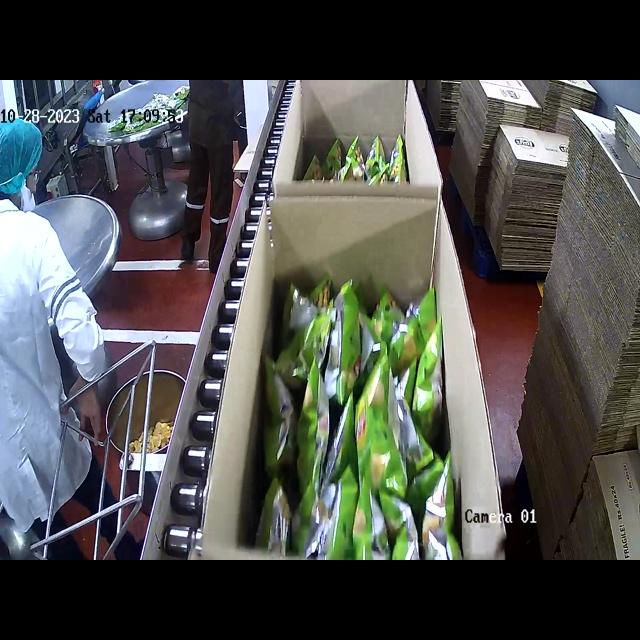yogurt: (254, 275, 458, 558)
